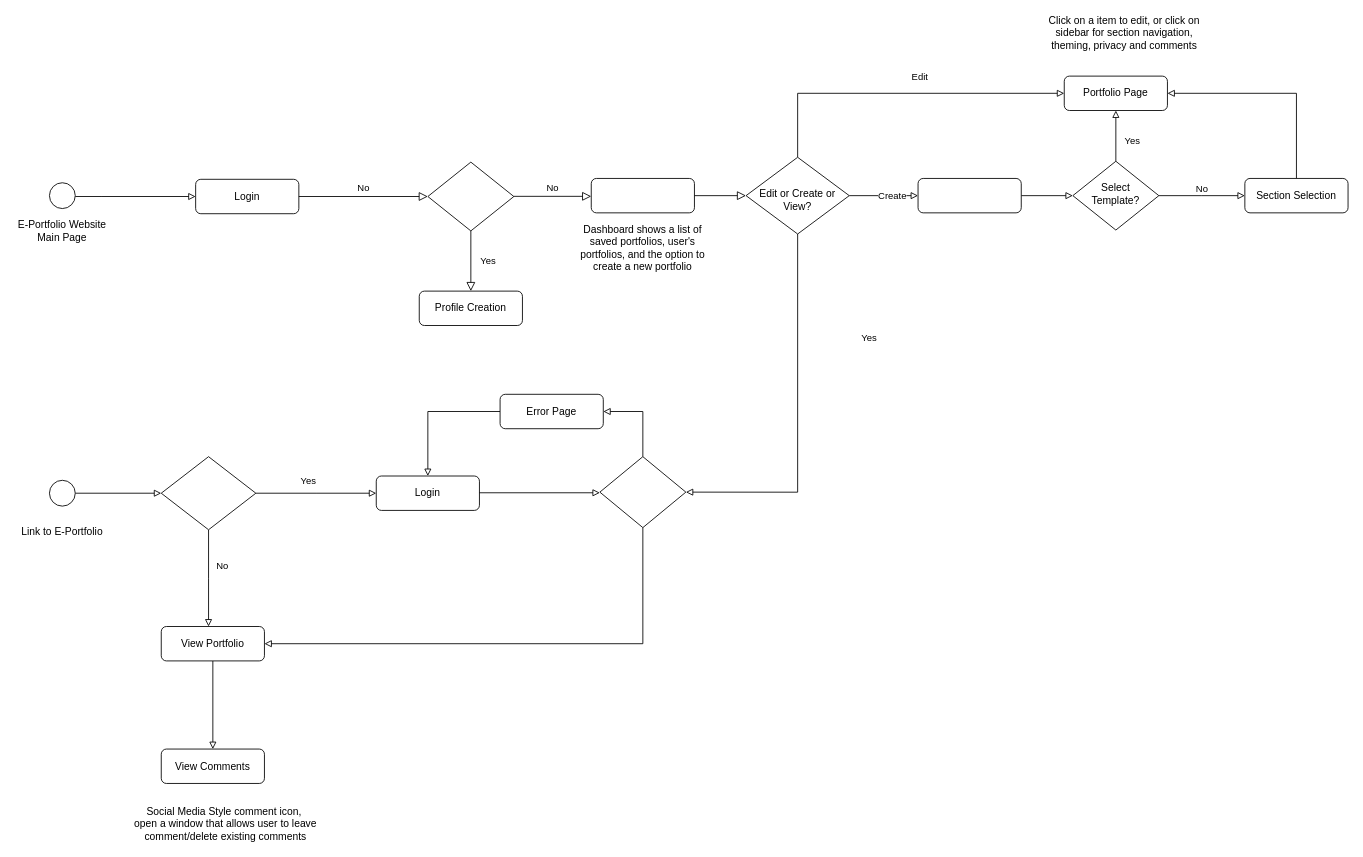
Some shapes in this 1363 by 857 pixel diagram are drawn without their labels. The box of each missing label's shape, as (x1, y1, x2, y2) in pixels:
First Time Login?: (427, 161, 514, 231)
Is this portfolio private?: (160, 456, 256, 530)
Is user verified?: (599, 456, 686, 528)
Portfolio Creation: (917, 178, 1021, 213)
Portfolio Dashboard: (590, 178, 694, 213)
